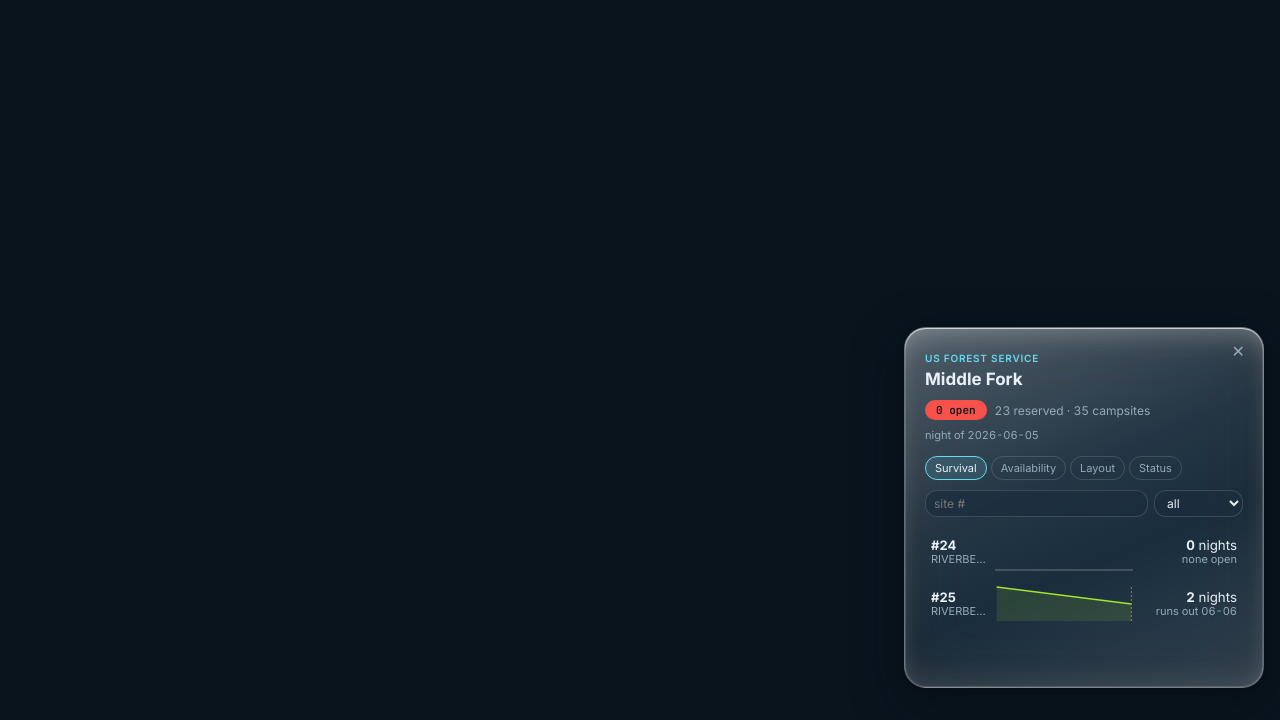
Test: Middle Fork — per-location panes (the validated case) › drills into #24 and the calendar shows 2026-06-05 reserved
The image size is (1280, 720).
Check: the text "#24" is shown, box [931,538,956,553]
Click the button "#24 RIVERBEND 0 nights none open" at coordinates (1084, 552), box [925,527,1243,577]
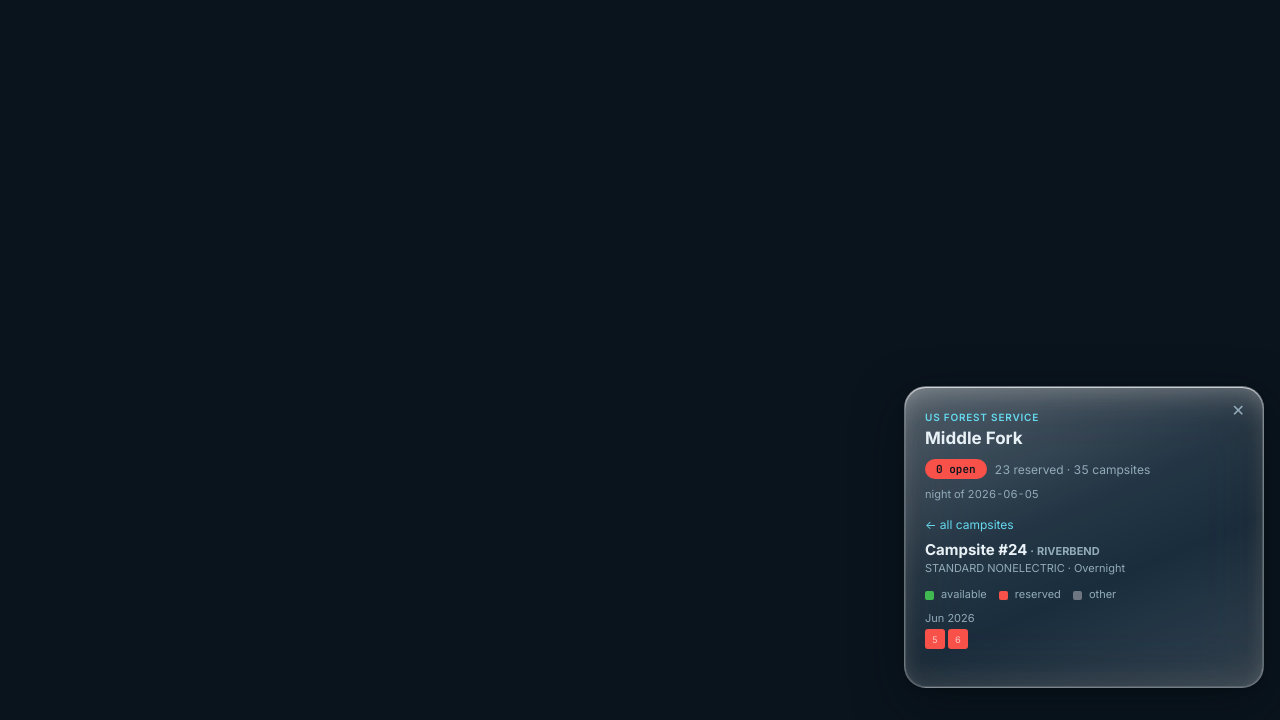
Check: the heading "Campsite #24 · RIVERBEND" is shown, box [925,540,1100,559]
